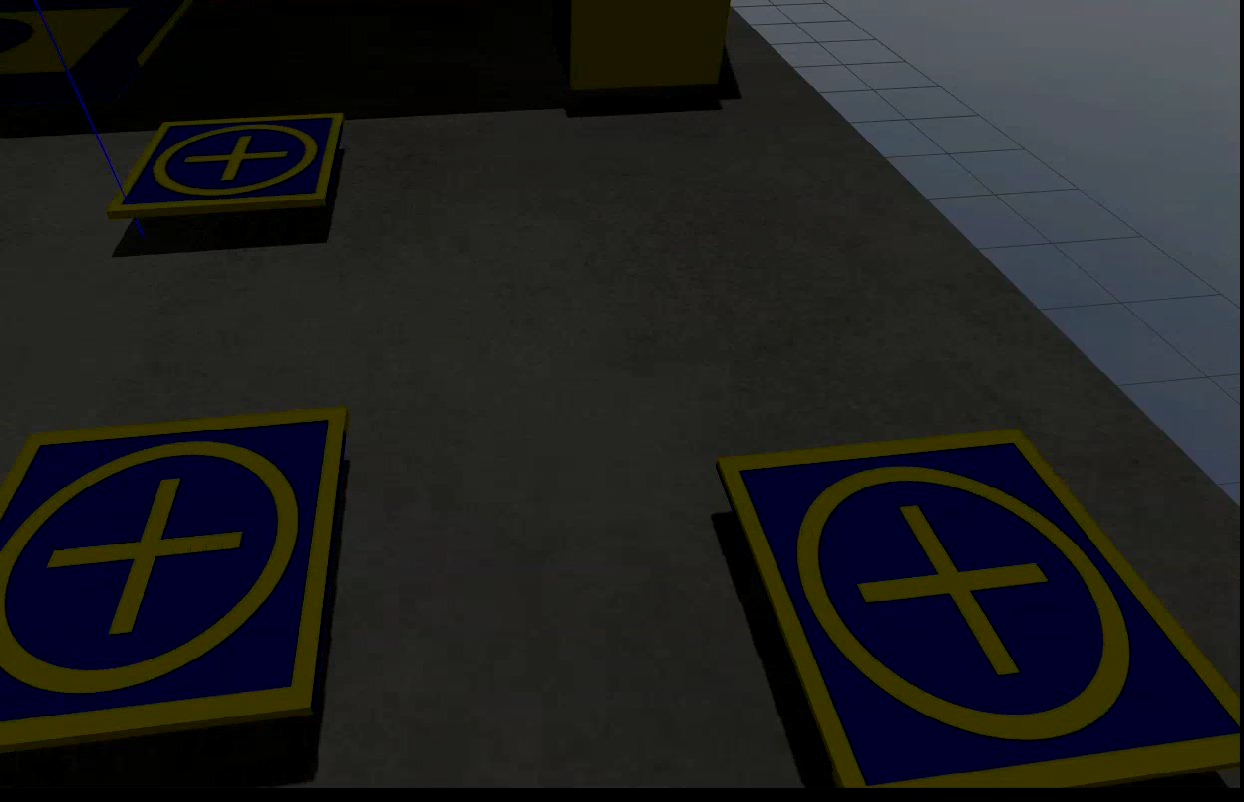large_base: (0, 1, 198, 102)
small_base: (714, 424, 1244, 793), (0, 405, 359, 753), (110, 104, 344, 214)
